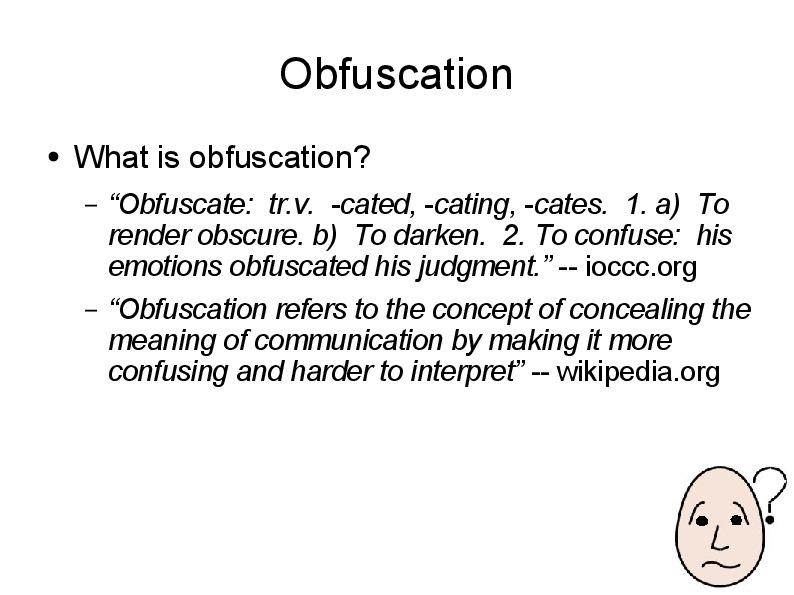paragraph: (107, 185, 759, 407)
subtitle: (71, 140, 373, 177)
title: (275, 45, 527, 103)
